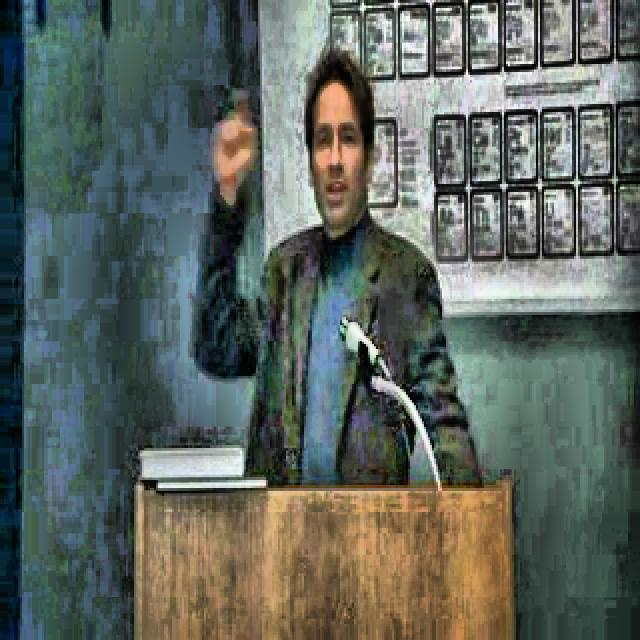T: (182, 46, 492, 500)
